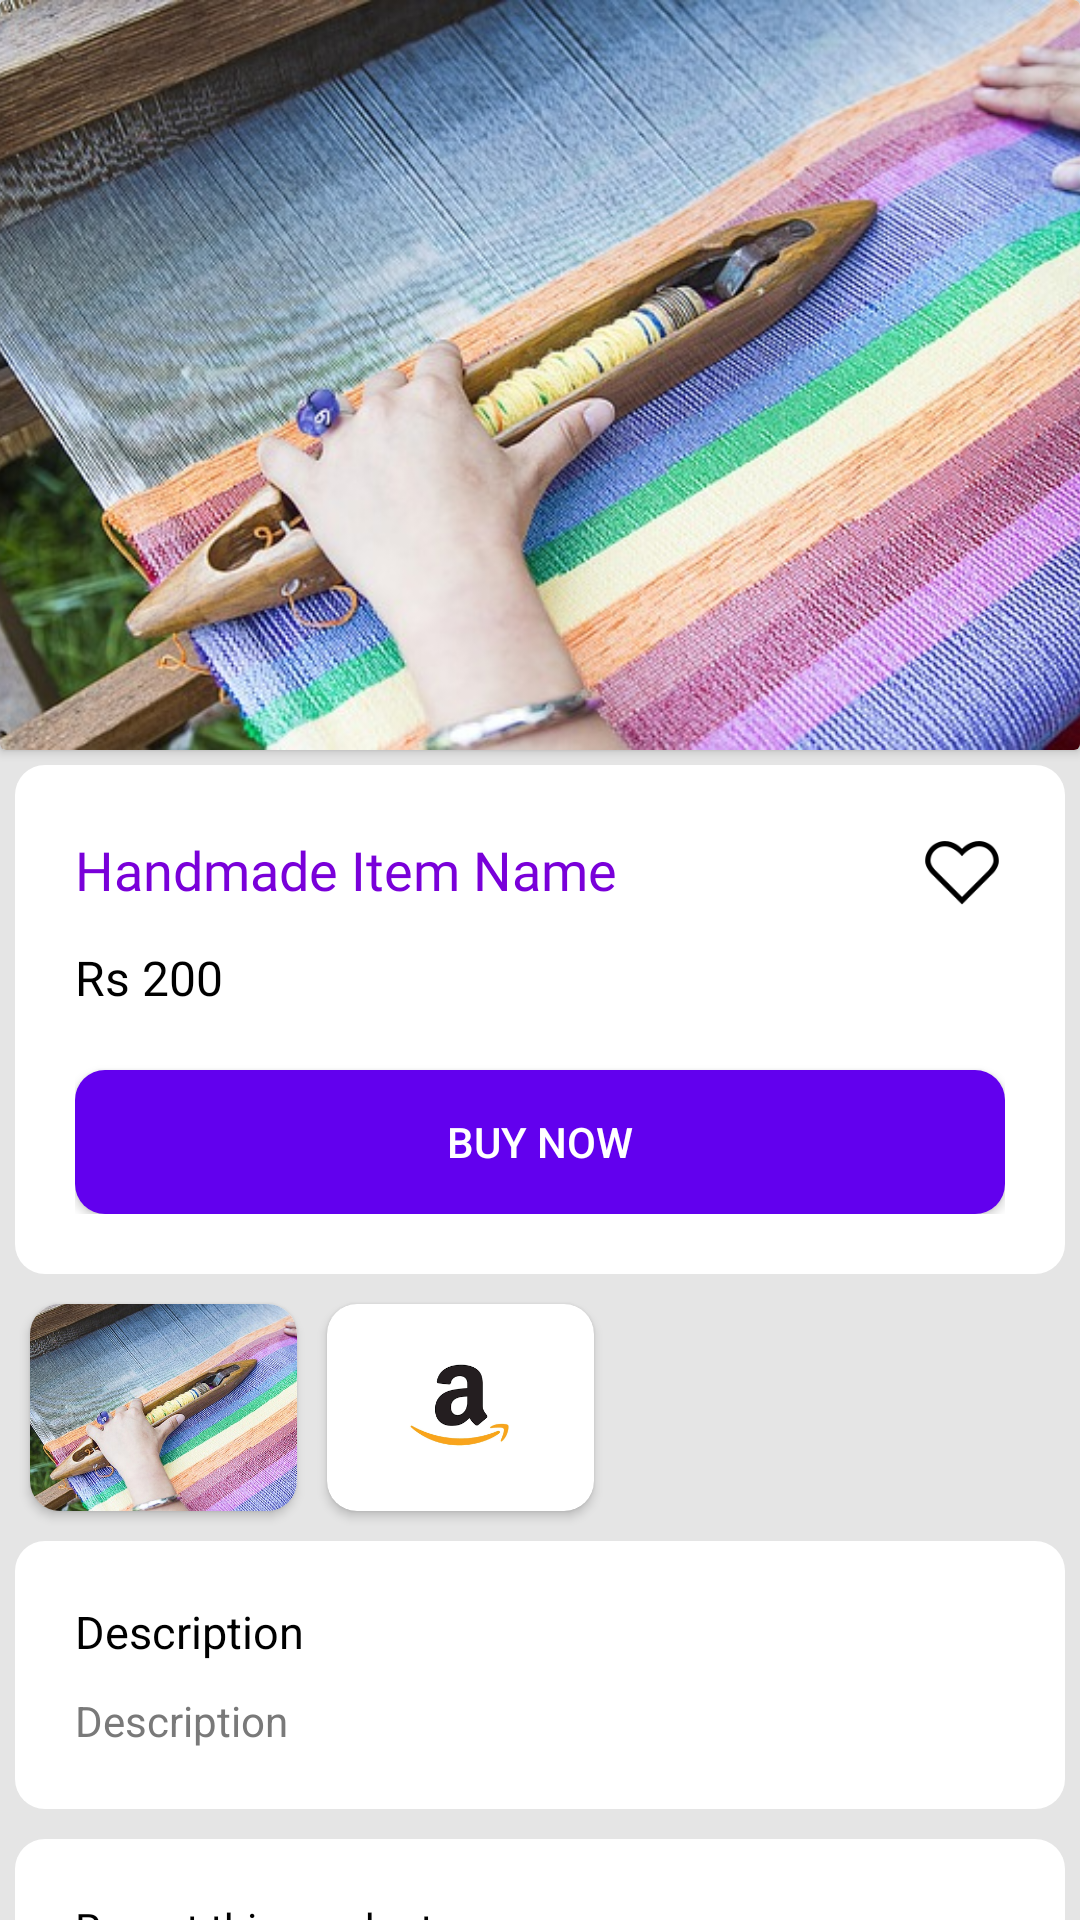

Named icons in this screenshot (1080x1920) and their centers, [x,y]:
heart: [962,872]
